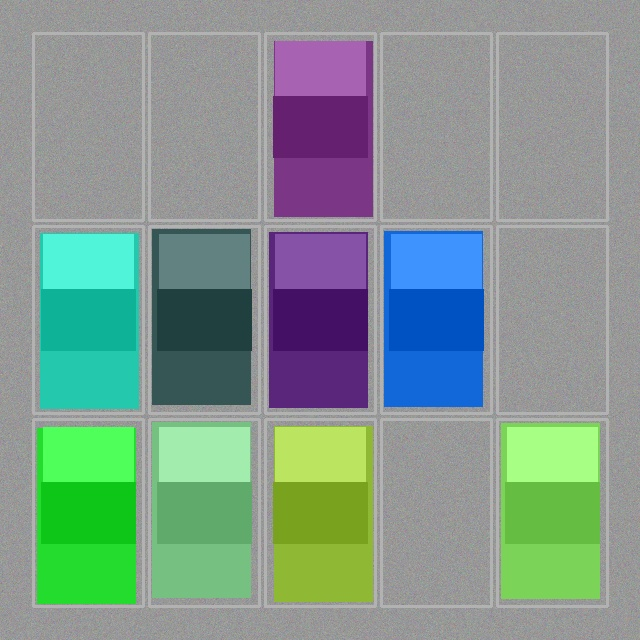space-empty: (35, 35, 141, 218), (151, 35, 257, 218), (383, 35, 489, 218), (499, 35, 605, 218), (499, 228, 605, 411), (383, 421, 489, 604)
space-occupied: (267, 35, 373, 218), (35, 228, 141, 411), (151, 228, 257, 411), (267, 228, 373, 411), (383, 228, 489, 411), (35, 421, 141, 604), (151, 421, 257, 604), (267, 421, 373, 604), (499, 421, 605, 604)
